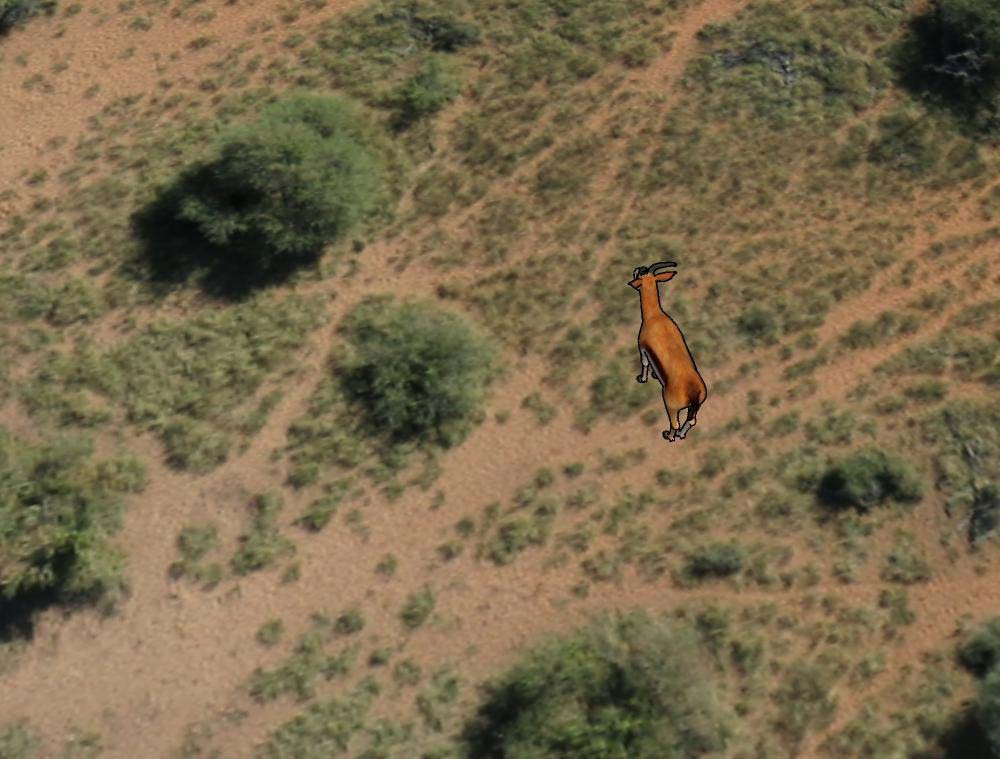springbok: (614, 256, 711, 445)
